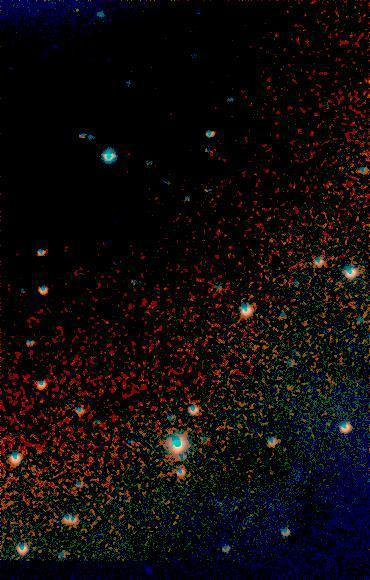star: (62, 0, 92, 22)
